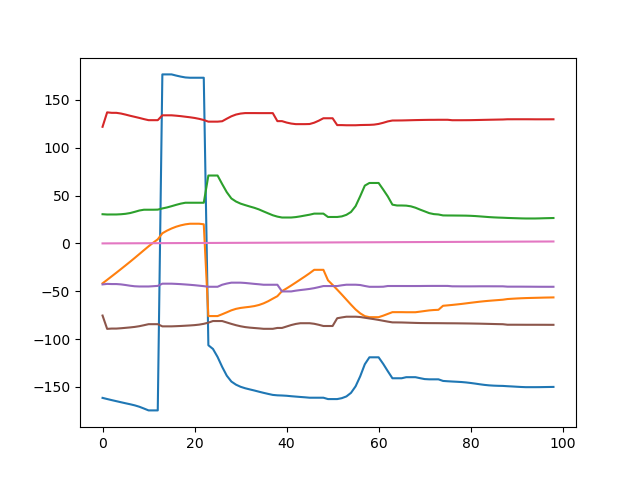Good_Bicep_Curl: (1, 1, 638, 480)
